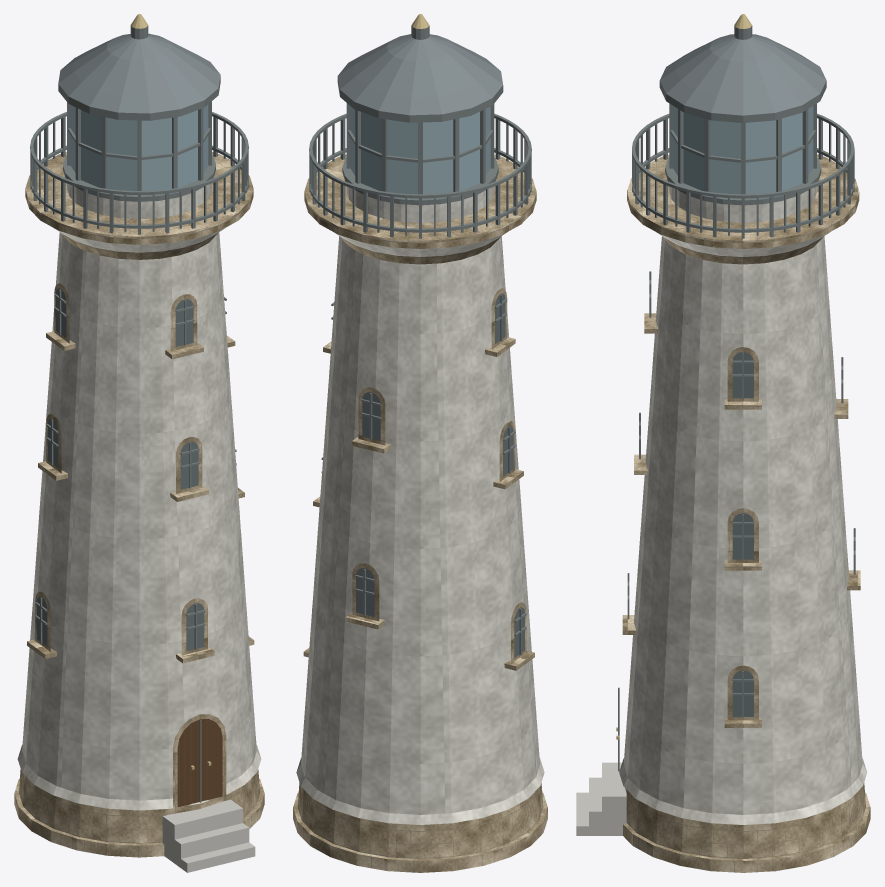
File: lighthouse.glb
3 renders of one model, left to right at view 1: azimuth 30°, elevation 25°; view 2: azimuth 150°, elevation 25°; view 3: azimuth 270°, elevation 25°, orthographic.
Visible parts, largest first — view 1: Tower_Whitewashed_masonry, Lantern_roof_Roof_metal, Lantern_glazing_Glass_bluegrey, Gallery_slab_Stone_trim, Plinth_Stone_trim, Tower_windows_Stone_trim, Entrance_steps_Stone_steps, Entrance_Door_wood, Lantern_frames_Dark_metal, Tower_windows_Window_dark, Gallery_rail_posts_Dark_metal, Gallery_rails_Dark_metal (+10 smaller); view 2: Tower_Whitewashed_masonry, Lantern_roof_Roof_metal, Plinth_Stone_trim, Lantern_glazing_Glass_bluegrey, Gallery_slab_Stone_trim, Tower_windows_Stone_trim, Foundation_Stone_trim, Lantern_frames_Dark_metal, Gallery_rail_posts_Dark_metal, Gallery_rails_Dark_metal, Plinth_cap_Whitewashed_masonry, Tower_windows_Window_dark (+7 smaller); view 3: Tower_Whitewashed_masonry, Lantern_roof_Roof_metal, Plinth_Stone_trim, Lantern_glazing_Glass_bluegrey, Gallery_slab_Stone_trim, Tower_windows_Stone_trim, Foundation_Stone_trim, Lantern_frames_Dark_metal, Gallery_rails_Dark_metal, Gallery_rail_posts_Dark_metal, Entrance_steps_Stone_steps, Plinth_cap_Whitewashed_masonry (+8 smaller).
Boxes of the visible parts, bbox=[...] form: Tower_Whitewashed_masonry: bbox=[22, 232, 256, 800]; Lantern_roof_Roof_metal: bbox=[58, 33, 220, 113]; Lantern_glazing_Glass_bluegrey: bbox=[70, 104, 208, 190]; Gallery_slab_Stone_trim: bbox=[25, 152, 253, 244]; Plinth_Stone_trim: bbox=[19, 769, 259, 843]; Tower_windows_Stone_trim: bbox=[27, 283, 254, 663]; Entrance_steps_Stone_steps: bbox=[162, 799, 255, 872]; Entrance_Door_wood: bbox=[177, 719, 222, 806]; Lantern_frames_Dark_metal: bbox=[67, 101, 211, 195]; Tower_windows_Window_dark: bbox=[37, 288, 204, 650]; Gallery_rail_posts_Dark_metal: bbox=[30, 117, 248, 234]; Gallery_rails_Dark_metal: bbox=[30, 112, 248, 228]; Tower_Whitewashed_masonry: bbox=[301, 236, 539, 814]; Lantern_roof_Roof_metal: bbox=[338, 34, 502, 115]; Plinth_Stone_trim: bbox=[297, 783, 543, 858]; Lantern_glazing_Glass_bluegrey: bbox=[350, 106, 490, 194]; Gallery_slab_Stone_trim: bbox=[304, 154, 536, 248]; Tower_windows_Stone_trim: bbox=[303, 288, 534, 670]; Foundation_Stone_trim: bbox=[293, 792, 547, 872]; Lantern_frames_Dark_metal: bbox=[346, 103, 494, 198]; Gallery_rail_posts_Dark_metal: bbox=[309, 119, 531, 238]; Gallery_rails_Dark_metal: bbox=[309, 113, 531, 232]; Plinth_cap_Whitewashed_masonry: bbox=[296, 758, 544, 824]; Tower_windows_Window_dark: bbox=[356, 293, 524, 657]; Tower_Whitewashed_masonry: bbox=[623, 236, 862, 814]; Lantern_roof_Roof_metal: bbox=[660, 34, 826, 115]; Plinth_Stone_trim: bbox=[625, 783, 865, 858]; Lantern_glazing_Glass_bluegrey: bbox=[673, 106, 813, 194]; Gallery_slab_Stone_trim: bbox=[627, 154, 859, 248]; Tower_windows_Stone_trim: bbox=[622, 313, 860, 727]; Foundation_Stone_trim: bbox=[623, 792, 870, 872]; Lantern_frames_Dark_metal: bbox=[669, 103, 816, 198]; Gallery_rails_Dark_metal: bbox=[632, 113, 854, 232]; Gallery_rail_posts_Dark_metal: bbox=[632, 119, 854, 238]; Entrance_steps_Stone_steps: bbox=[576, 762, 626, 835]; Plinth_cap_Whitewashed_masonry: bbox=[619, 758, 867, 824].
Bounding box in the file's own units: 6.2 × 21.6 × 7.16.
Materials: 9 (3 with a texture image).
